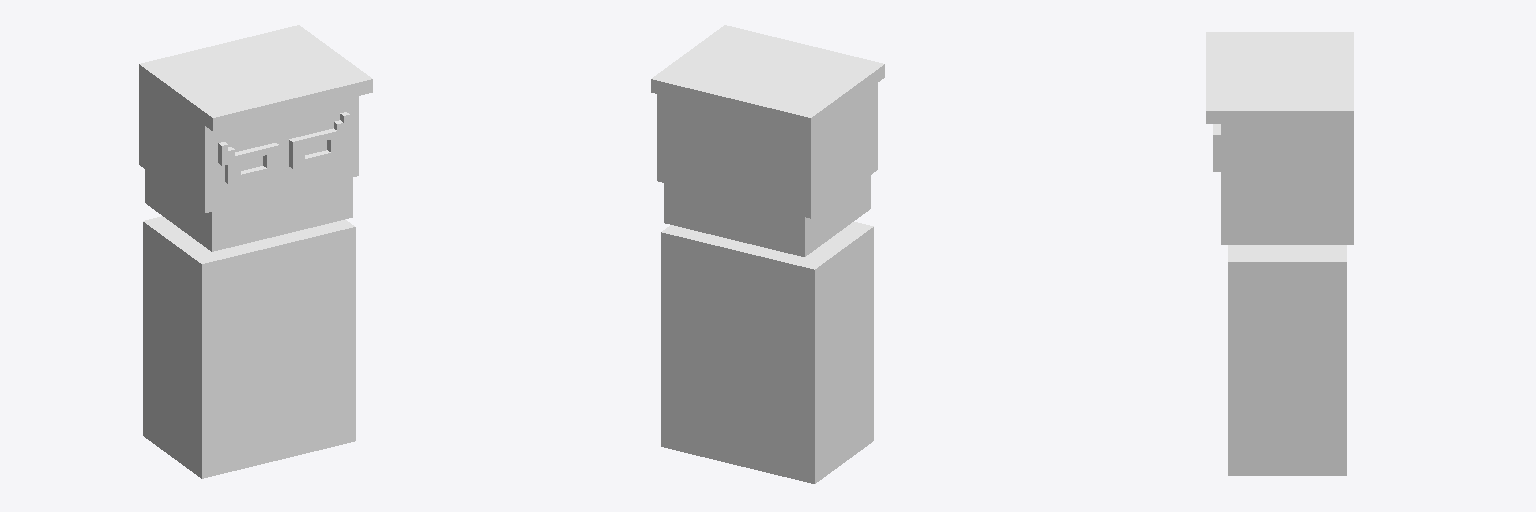
Rendered from Nightwing_Cuerpo.obj.
3 views of the same model, side by side, from view 1: azimuth 30°, elevation 25°; view 2: azimuth 150°, elevation 25°; view 3: azimuth 270°, elevation 25° (orthographic).
Visible parts, largest first — view 1: Nightwing_Cuerpo; view 2: Nightwing_Cuerpo; view 3: Nightwing_Cuerpo.
Part boxes in pixels (bbox=[...]): Nightwing_Cuerpo: bbox=[139, 25, 372, 478]; Nightwing_Cuerpo: bbox=[651, 25, 884, 483]; Nightwing_Cuerpo: bbox=[1206, 32, 1353, 475].
Bounding box in the file's own units: 2.5 × 5.5 × 2.